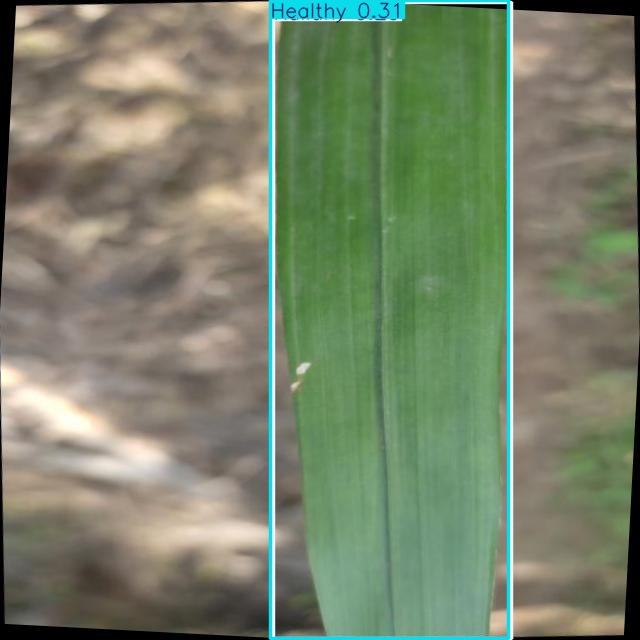Healthy: (270, 0, 509, 638)
Kalium: (273, 2, 512, 638)
